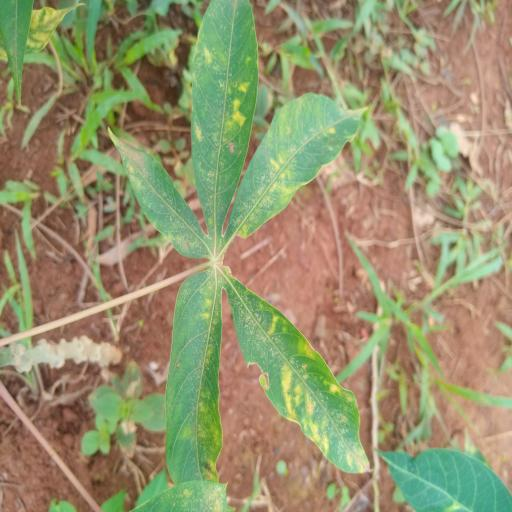Cassava_Mosaic: (108, 0, 397, 503)
